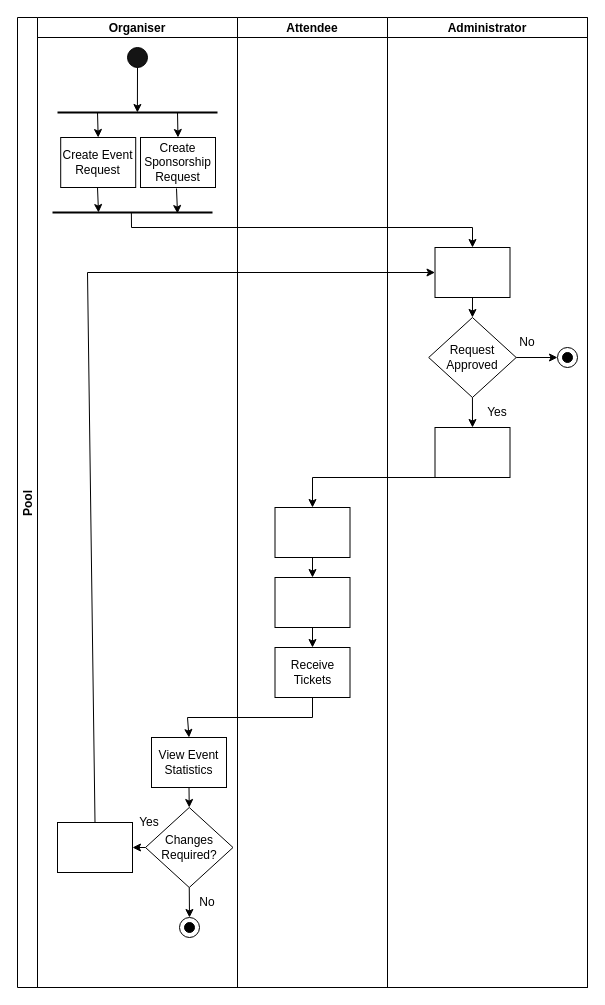
Image size: 605x1005. Some labels were removed from this diagram. The shapes that lost their labels are listed below. From the top down, each one's centre as x and y in pixels, then its label:
At pixel 472 272: "Evaluate Request".
At pixel 472 452: "Add Event".
At pixel 312 532: "View Events".
At pixel 312 602: "Register for Events".
At pixel 94 847: "Edit Event Details".
